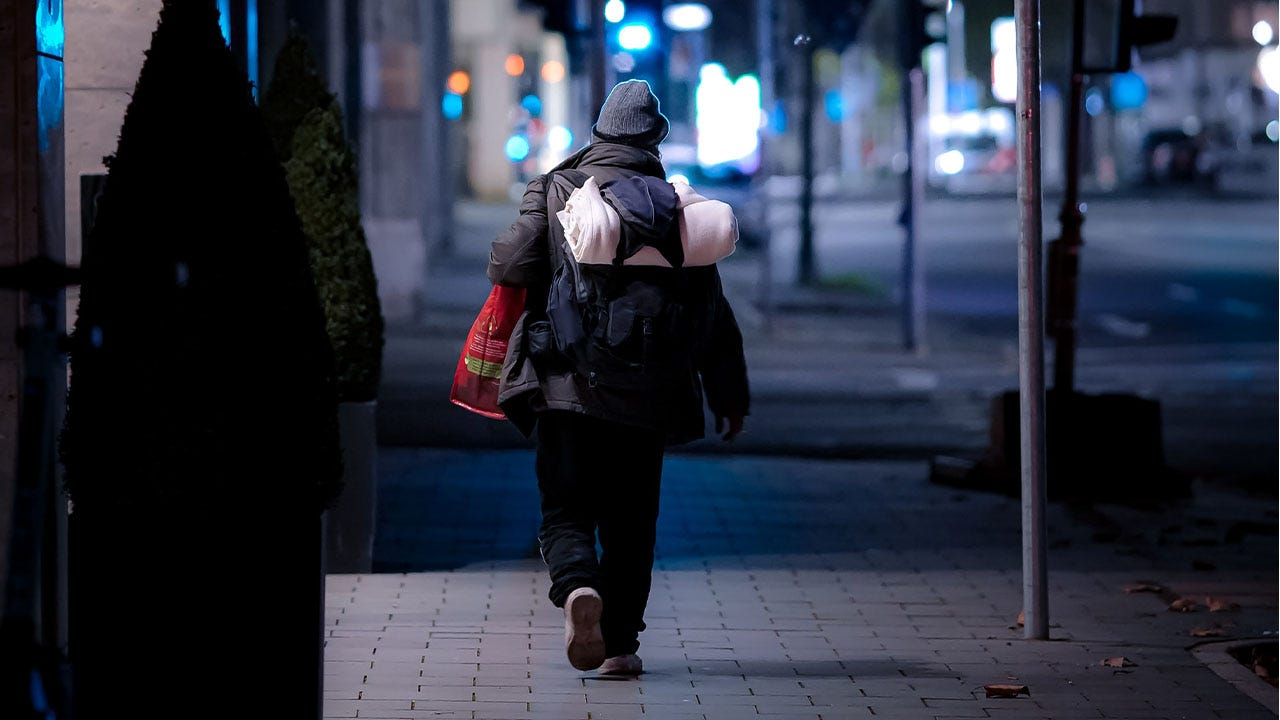person: (443, 76, 743, 678)
